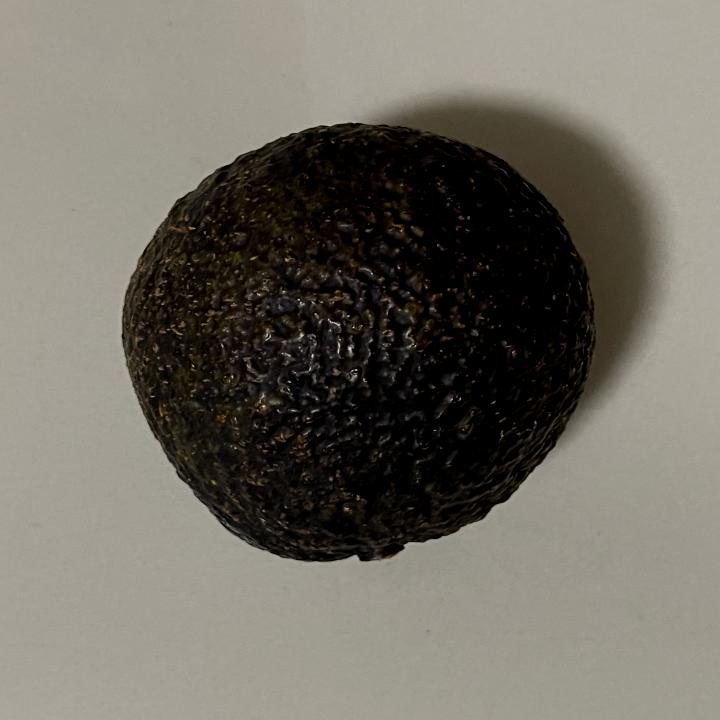Level2: (110, 115, 604, 578)
